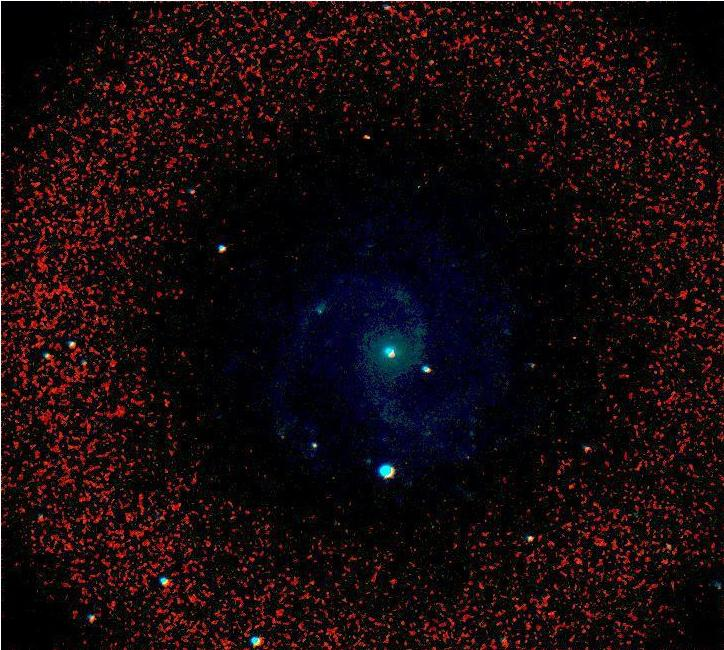star: (351, 124, 381, 154)
